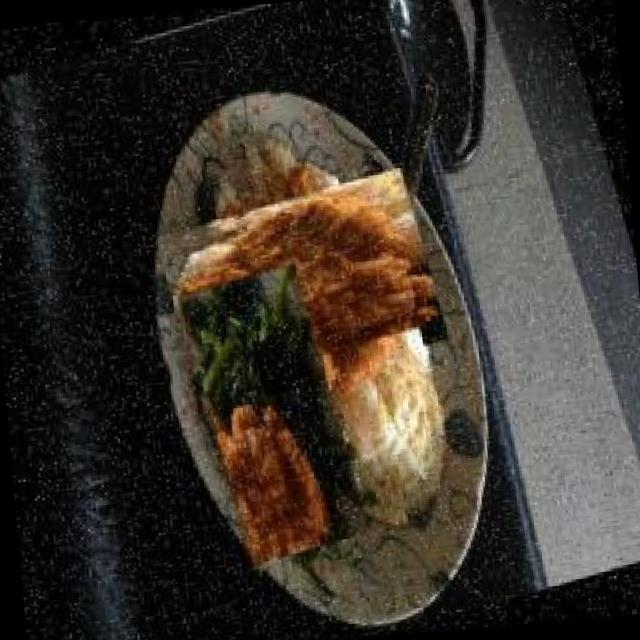fried_chicken: (164, 150, 440, 424)
fried_eggs: (298, 323, 474, 546)
water_spinach: (175, 258, 373, 570)
